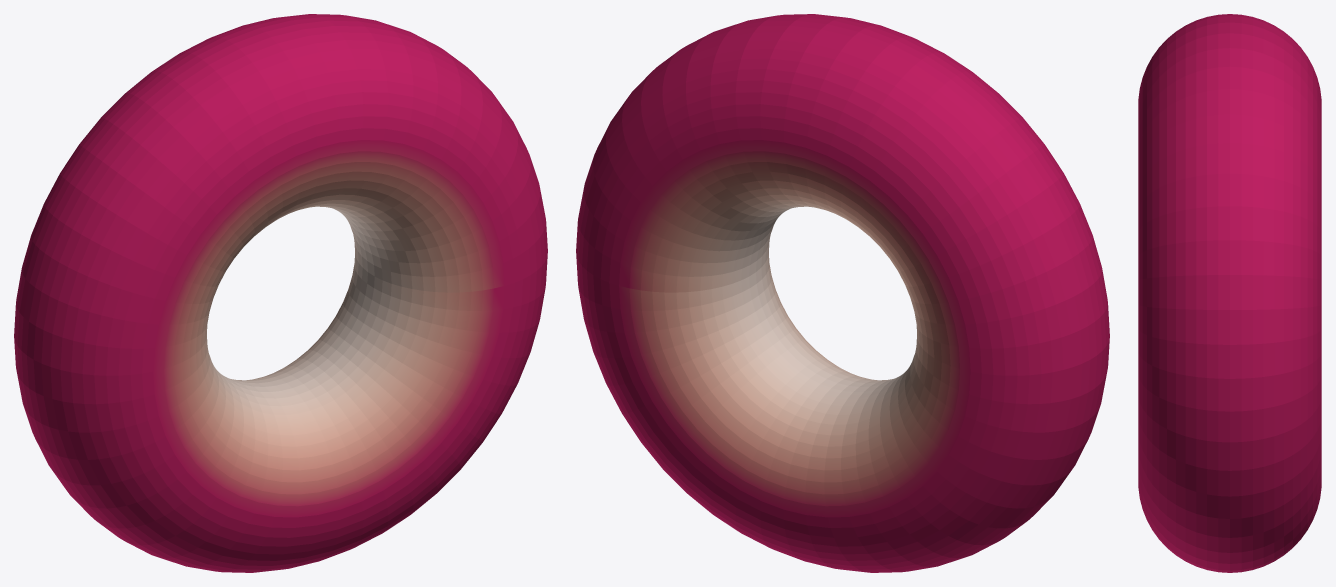
3 views of the same model, side by side, from view 1: azimuth 30°, elevation 25°; view 2: azimuth 150°, elevation 25°; view 3: azimuth 270°, elevation 25° (orthographic). The views are drawn at different scales.
Parts seen in each view (by area): view 1: world; view 2: world; view 3: world.
Part boxes in pixels (x1,y1,x2,y2): world: [14, 14, 547, 572]; world: [576, 14, 1109, 572]; world: [1138, 14, 1321, 572].
Bounding box in the file's own units: 28.8 × 28.74 × 9.45.
